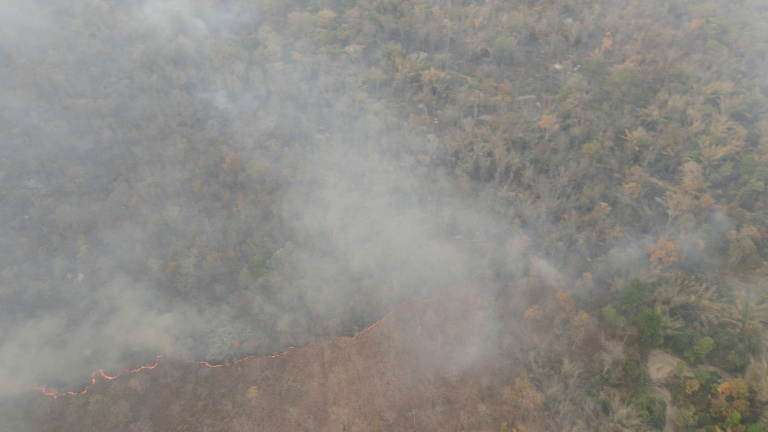fire: (183, 296, 437, 369), (4, 345, 180, 405)
smoke: (1, 1, 533, 426), (533, 174, 768, 315)
